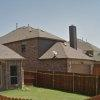Chimney: (61, 20, 83, 54)
